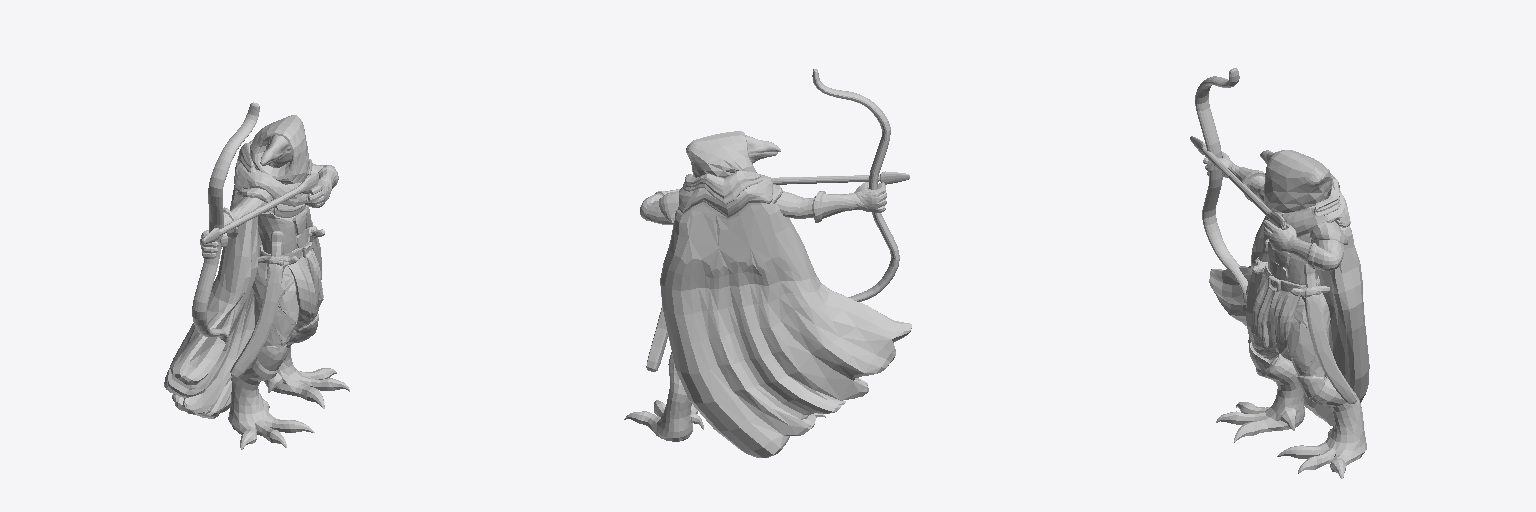
File: 44_Kenku_Ranger_2.obj
3 views of the same model, side by side, from view 1: azimuth 30°, elevation 25°; view 2: azimuth 150°, elevation 25°; view 3: azimuth 270°, elevation 25° (orthographic).
Visible parts, largest first — view 1: mesh01; view 2: mesh01; view 3: mesh01.
Boxes of the visible parts, <box> form: mesh01: <box>164,102,349,449</box>; mesh01: <box>624,69,911,457</box>; mesh01: <box>1190,68,1369,478</box>.
Bounding box in the file's own units: 1.32 × 1.96 × 0.9066.